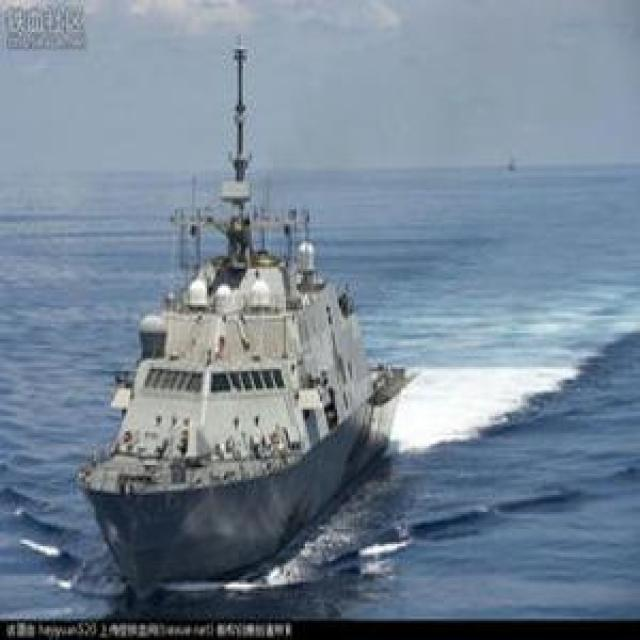passenger ship: (79, 25, 413, 582)
